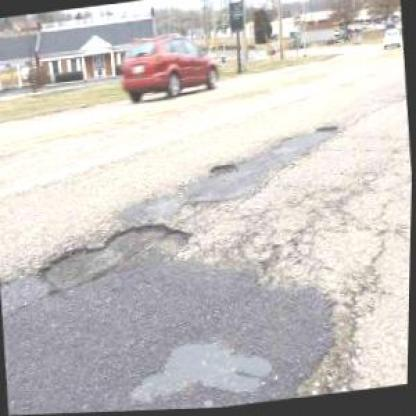pothole: (32, 218, 198, 300), (209, 159, 240, 179), (315, 122, 341, 136)
